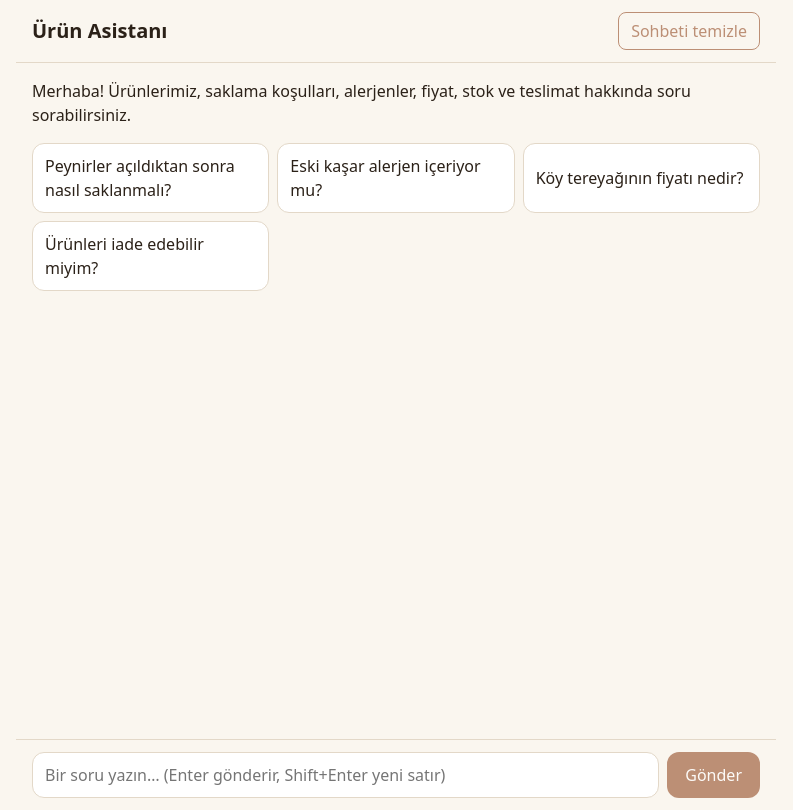
Test case: App › shows a generic message on network failure, with retry
Type "merhaba" into the text box named "Mesajınız" at (346, 775), box [32,752,659,798]
Then press Enter
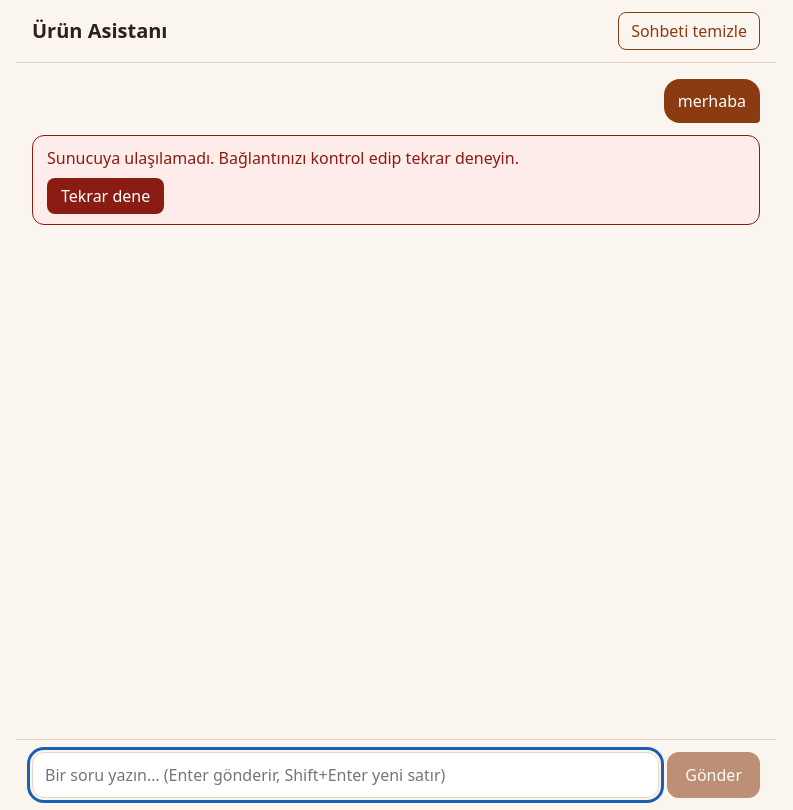
Now the message shows "Sunucuya ulaşılamadı", box [47,147,519,169]
Now the button "Tekrar dene" is shown, box [47,178,164,214]
